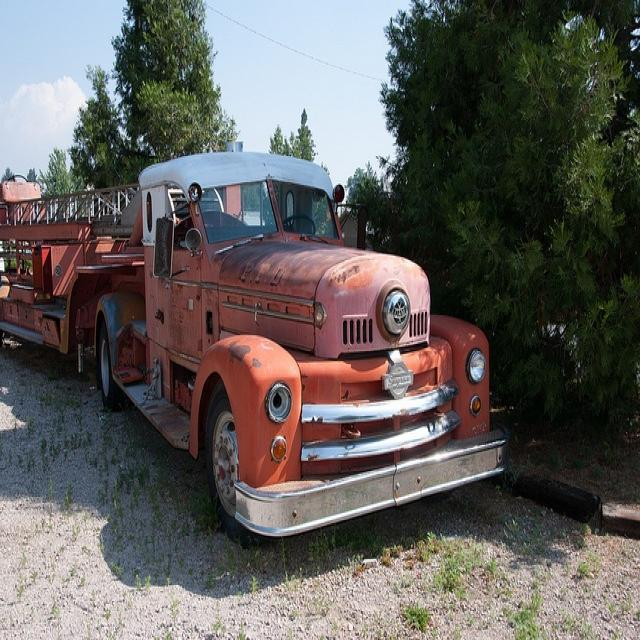truck: (0, 148, 506, 544)
